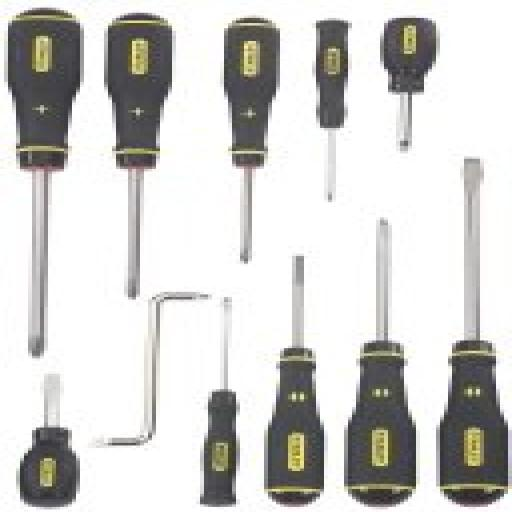screwdriver: (437, 157, 512, 508), (9, 7, 83, 359), (346, 217, 418, 508), (102, 12, 172, 300), (265, 254, 325, 508), (224, 17, 282, 264), (198, 297, 243, 507), (16, 373, 82, 507), (380, 16, 441, 152), (316, 18, 350, 202)
